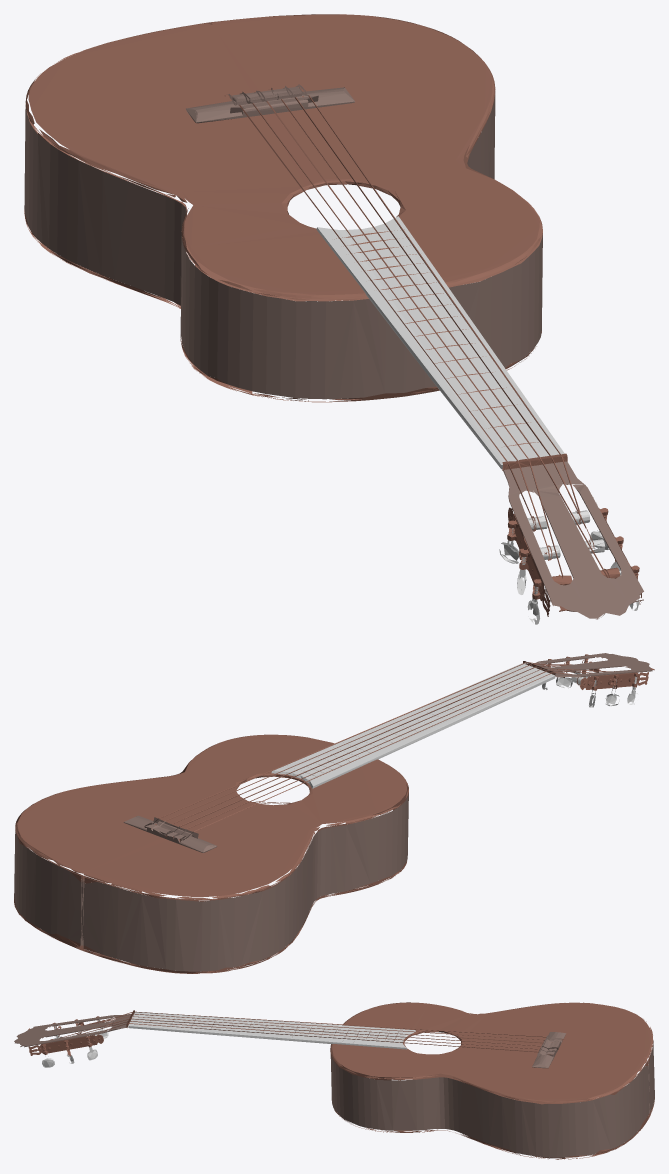
File: guitar.glb
The picture shows the model from 3 angles, top to bottom: view 1: azimuth 30°, elevation 25°; view 2: azimuth 150°, elevation 25°; view 3: azimuth 270°, elevation 25°; orthographic projection. The views are drawn at different scales.
Parts seen in each view (by area): view 1: objdefault001; view 2: objdefault001; view 3: objdefault001.
Boxes of the visible parts, <box> form: objdefault001: <box>24,14,643,624</box>; objdefault001: <box>14,653,654,973</box>; objdefault001: <box>14,1002,654,1159</box>.
Size of the model in its own units: 0.3992 by 0.1093 by 1.
